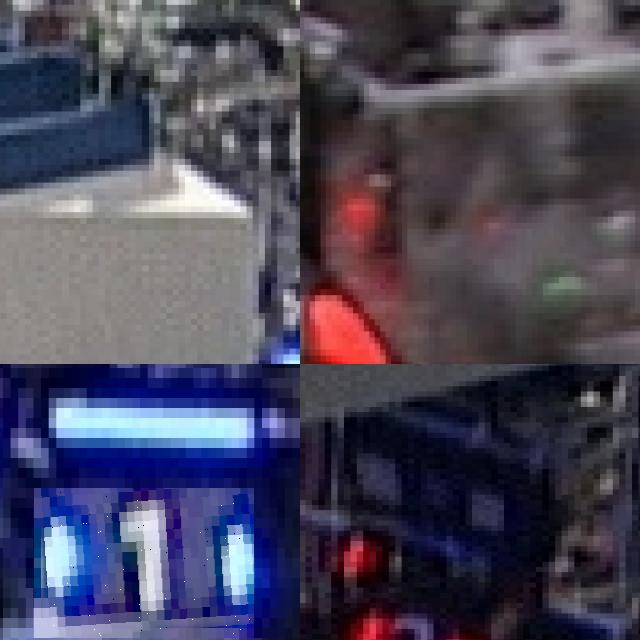B1: (34, 488, 254, 638)
R2: (350, 593, 465, 640)
